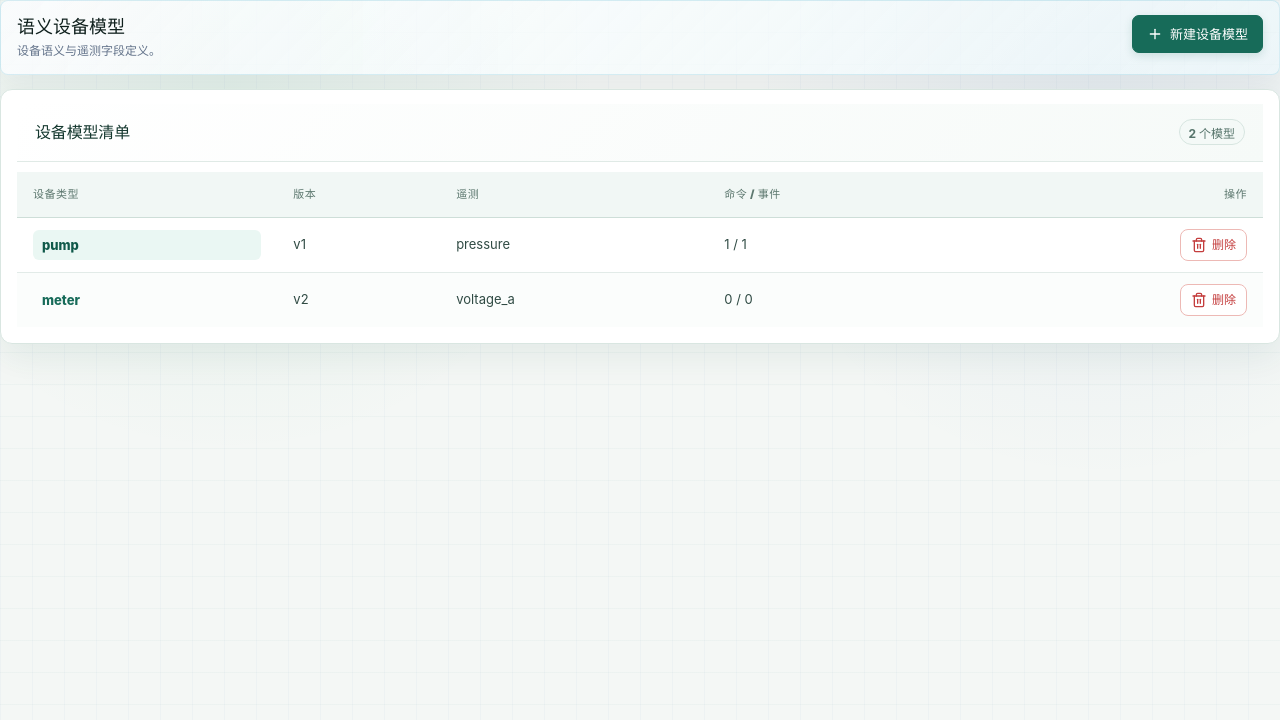
Test case: DeviceModelsPage › shows multiple models and saves edits for the selected model
Expected: the heading "设备模型清单" is shown, [35,122,130,143]
Click the button with aria-label "选择设备模型 meter". click: [147, 300]
box: [33,285,261,315]
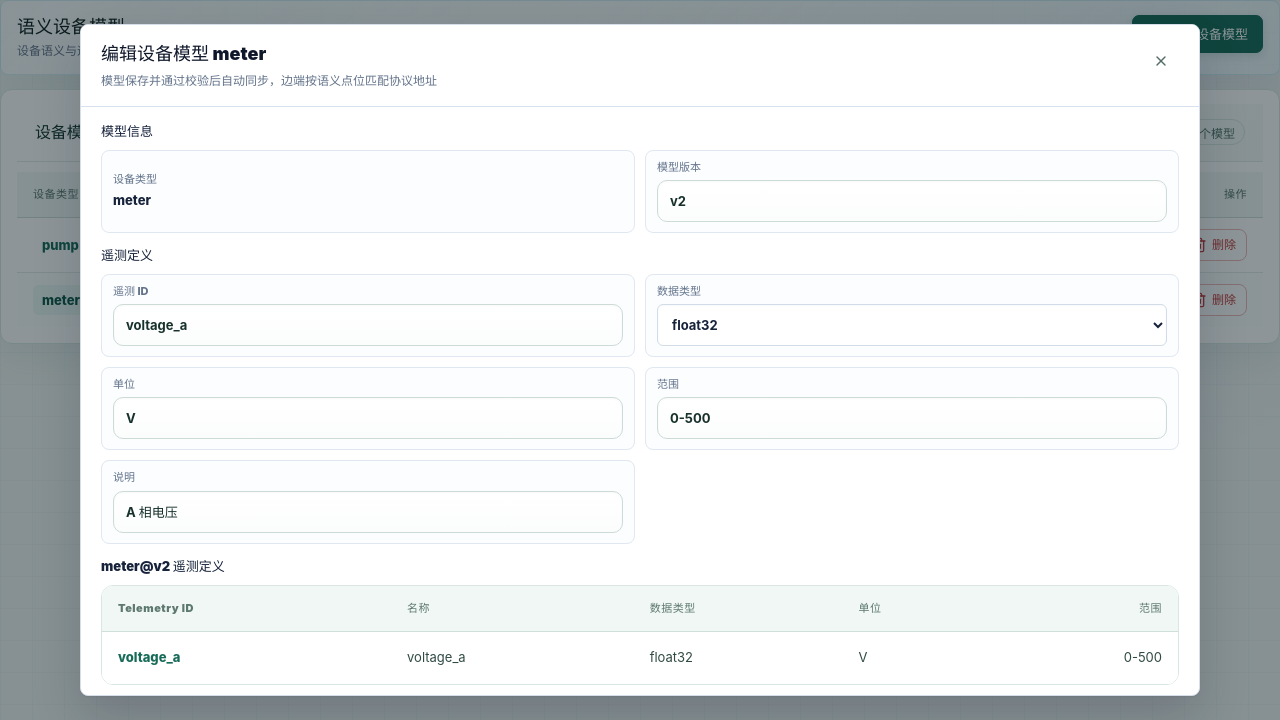
Now the heading "编辑设备模型 meter" is shown, box [101,43,266,64]
Replace the text in the field labelled "模型版本" with "v3". click: [912, 201]
box: [657,180,1167,222]
(page scrolled)
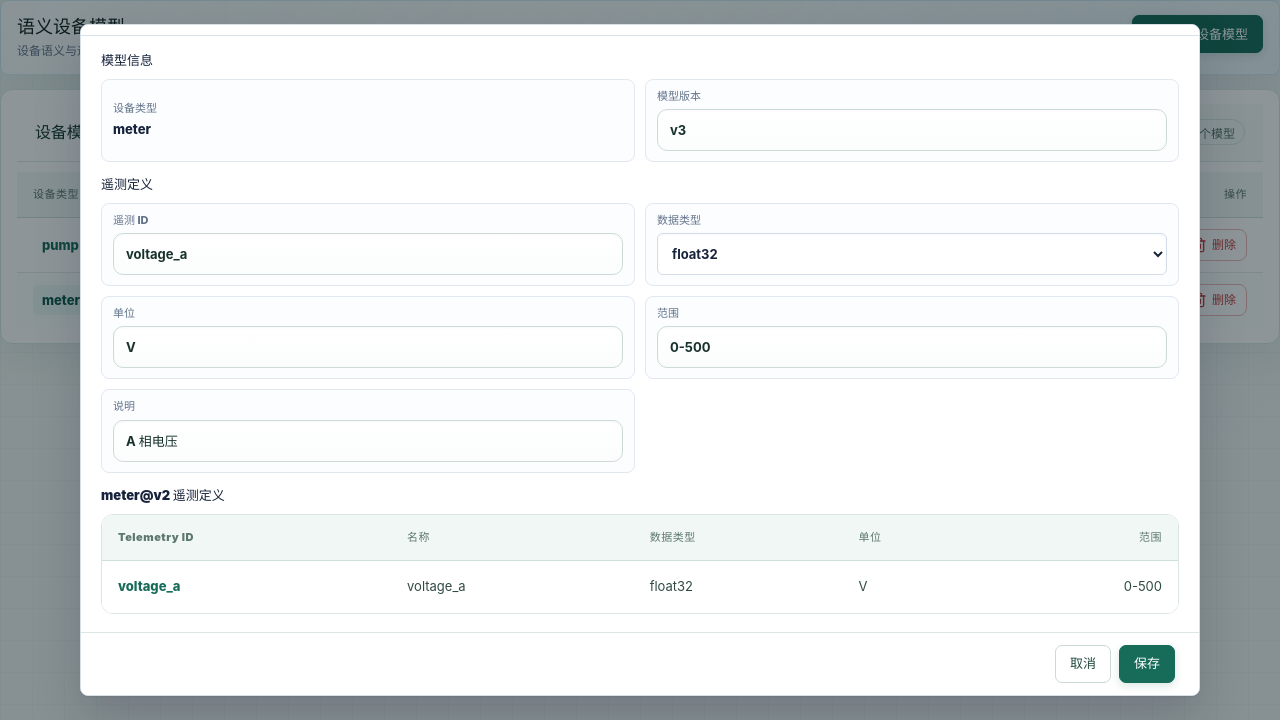
Click the button "保存". click: [1147, 664]
box: [1119,644,1175,682]
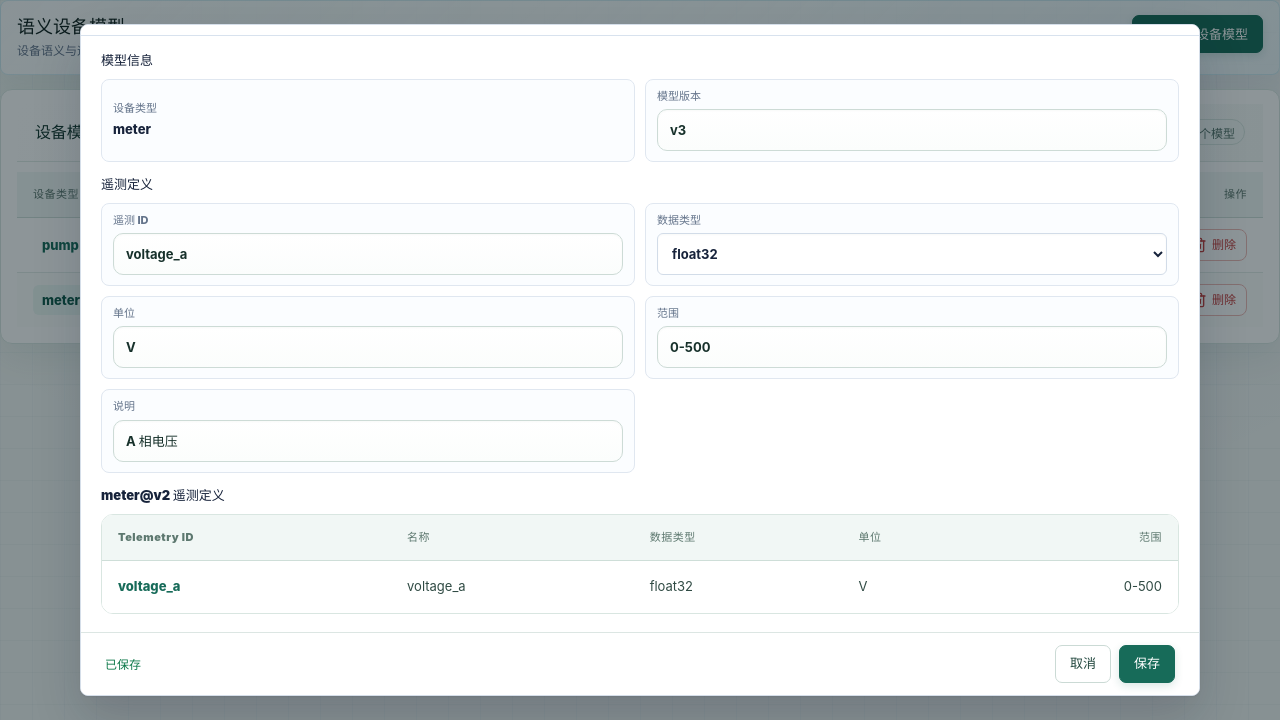
Now the text "已保存" is shown, box [105,655,141,672]
